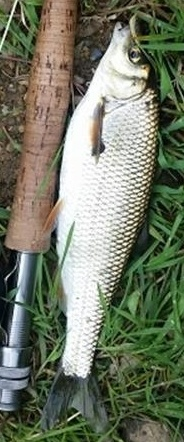Rutilus rutilus: (20, 20, 164, 422)
